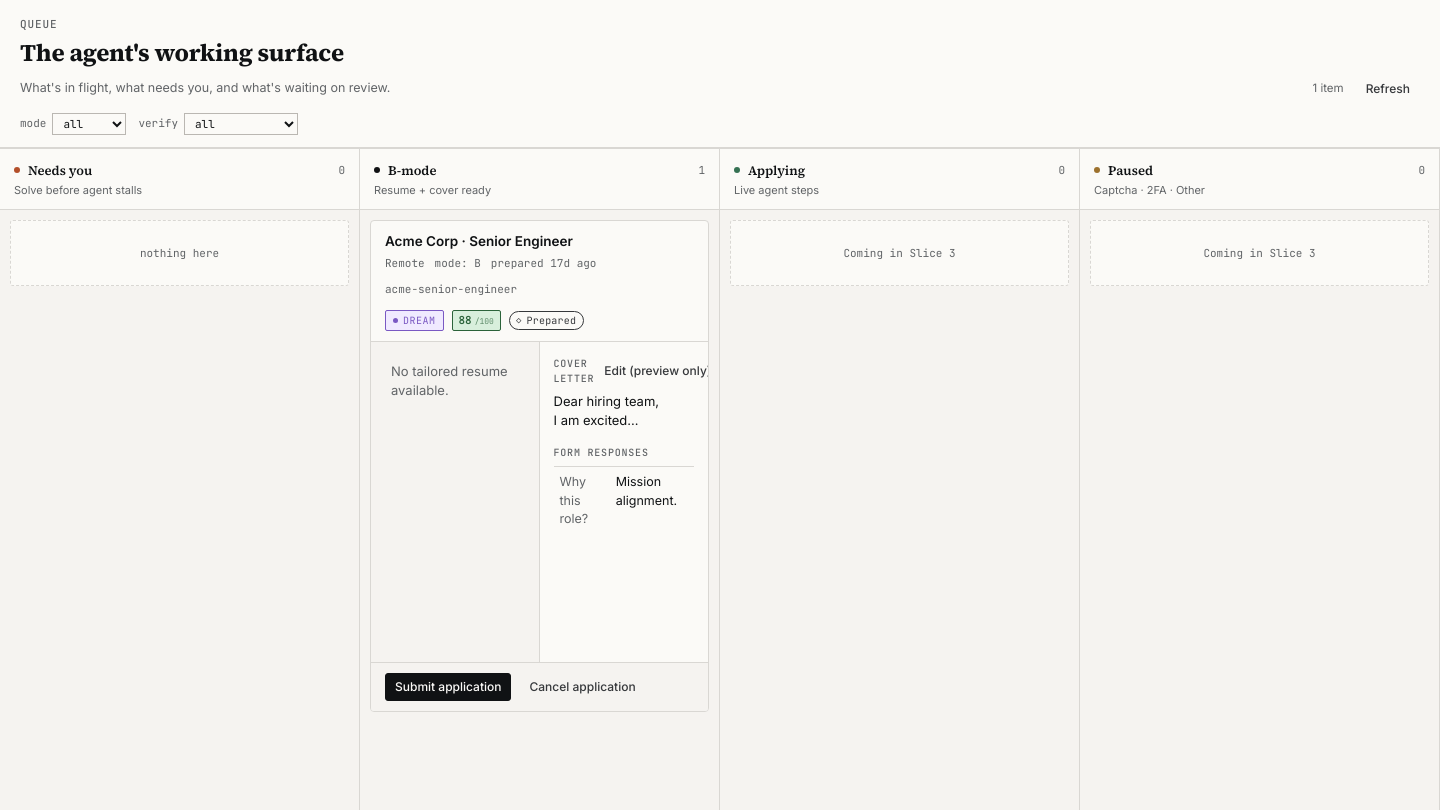
Test: clicking Cancel deletes the application and removes the card
The image size is (1440, 810).
Check: the text "Acme Corp · Senior Engineer" is shown, box x1=385 y1=232 x2=573 y2=248
Click the button "Cancel application": (583, 687) x1=520 y1=673 x2=646 y2=701
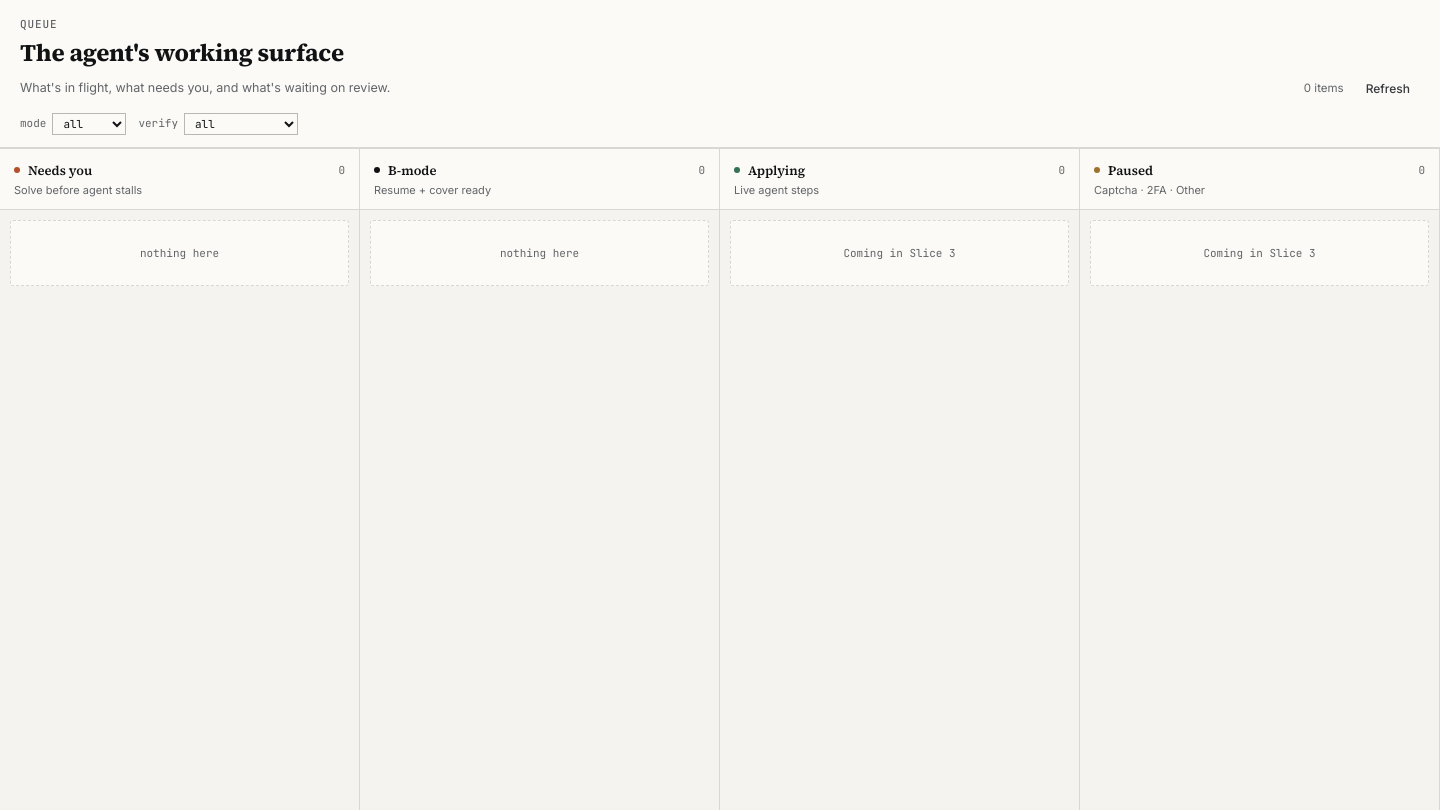
Check: the text "Acme Corp · Senior Engineer" is gone
